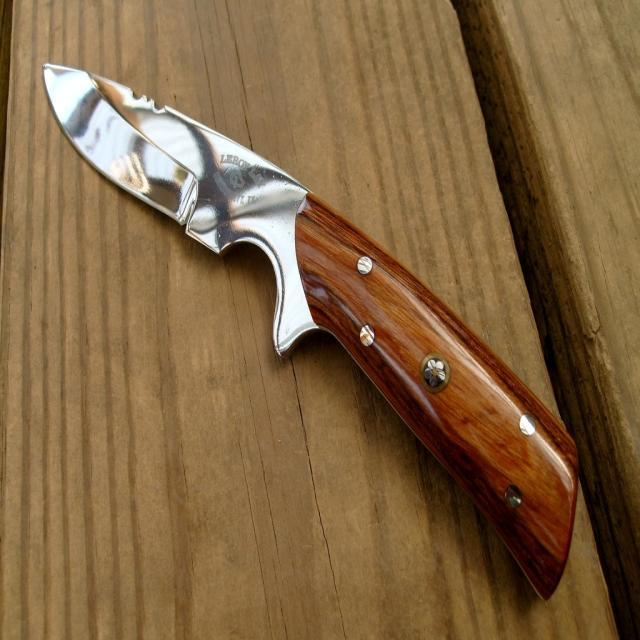Knife: (44, 65, 578, 598)
